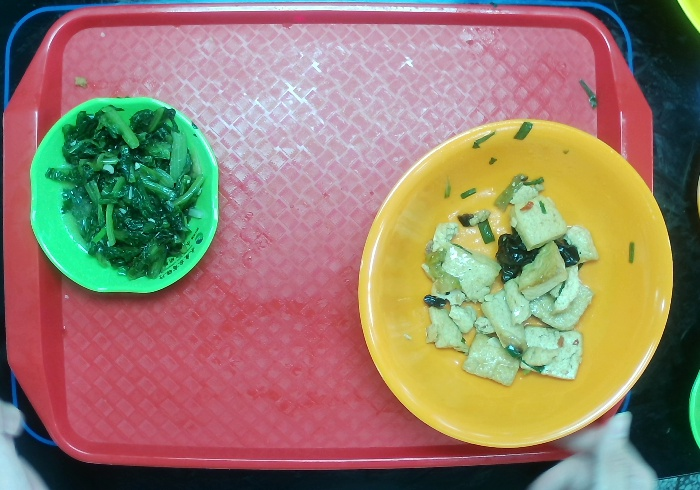YKMZ-Ju_Se_Tang_Wan: (355, 117, 673, 450)
YKMZ-Lv_Se_Ao_Bian_Wan: (31, 96, 219, 296)
